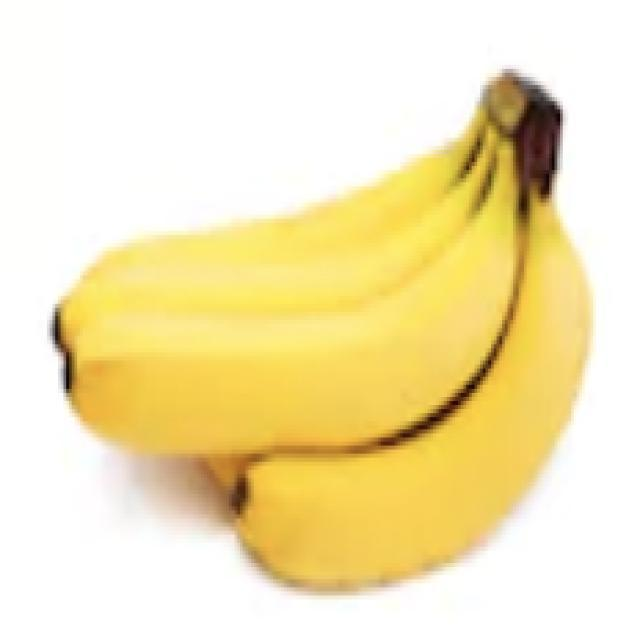Banana: (51, 66, 594, 591)
